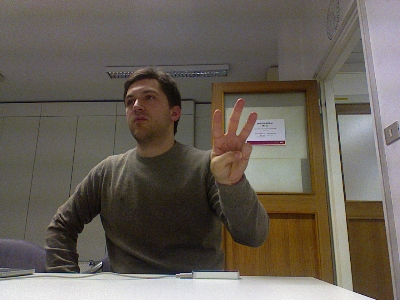三分: (208, 97, 257, 185)
